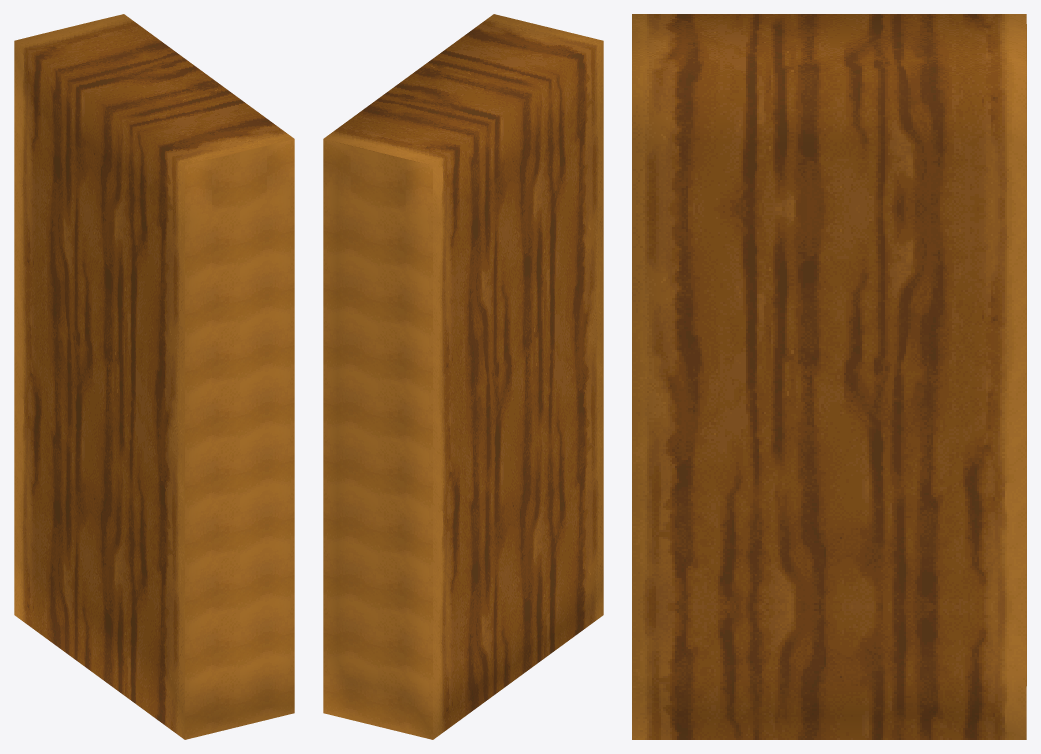
File: SM_AP_CanyonWall_0.glb
3 views of the same model, side by side, from view 1: azimuth 30°, elevation 25°; view 2: azimuth 150°, elevation 25°; view 3: azimuth 270°, elevation 25° (orthographic). The views are drawn at different scales.
Visible parts, largest first — view 1: SM_AP_CanyonWall_0; view 2: SM_AP_CanyonWall_0; view 3: SM_AP_CanyonWall_0.
Boxes of the visible parts, left/top/right/bottom form: SM_AP_CanyonWall_0: left=14, top=14, right=294, bottom=739; SM_AP_CanyonWall_0: left=323, top=14, right=603, bottom=739; SM_AP_CanyonWall_0: left=632, top=14, right=1026, bottom=739.
Size of the model in its own units: 8 by 40 by 21.56.
Materials: 1 (1 with a texture image).
